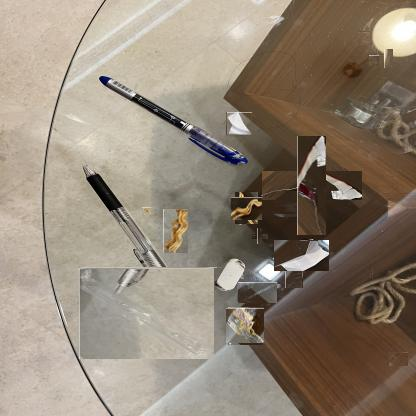dirty: (79, 268, 214, 360), (280, 153, 344, 218), (273, 240, 329, 272), (227, 308, 264, 344), (163, 209, 188, 253), (233, 195, 260, 222), (226, 112, 252, 135), (142, 207, 151, 215)
mark: (237, 282, 277, 303), (285, 271, 303, 288), (388, 352, 408, 366), (382, 51, 396, 66), (358, 31, 372, 45), (255, 231, 265, 242), (369, 55, 379, 66)
